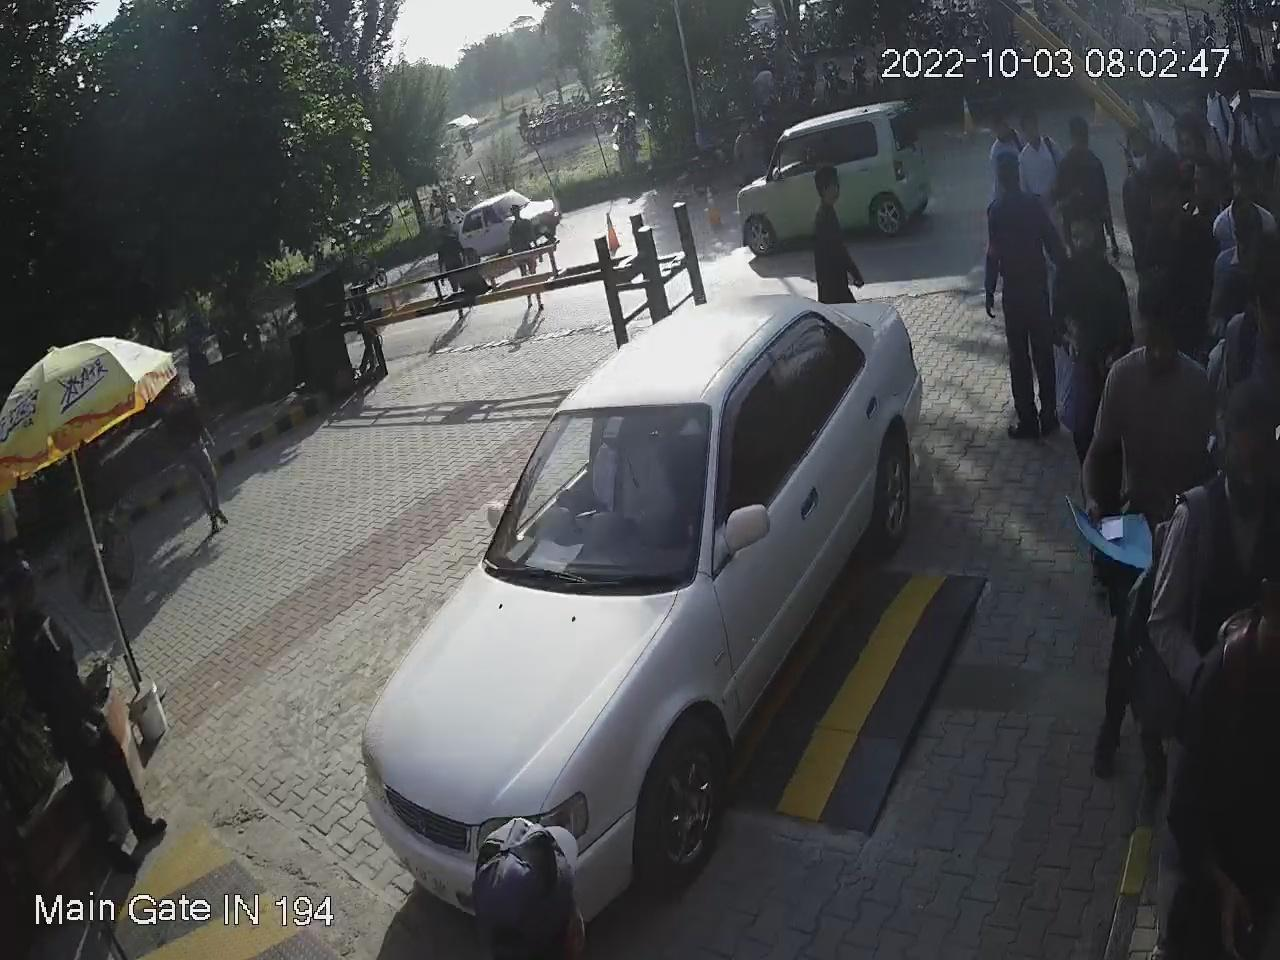windshield: (478, 397, 718, 602)
